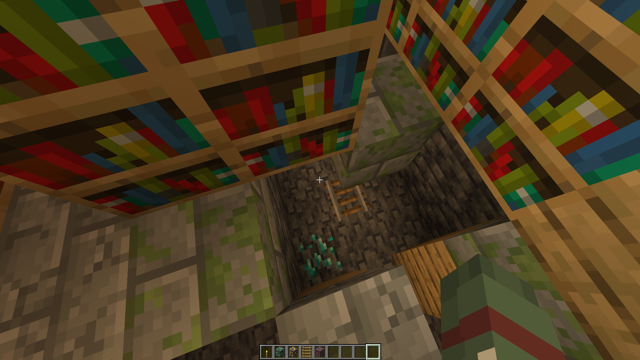diamond: (291, 226, 345, 280)
